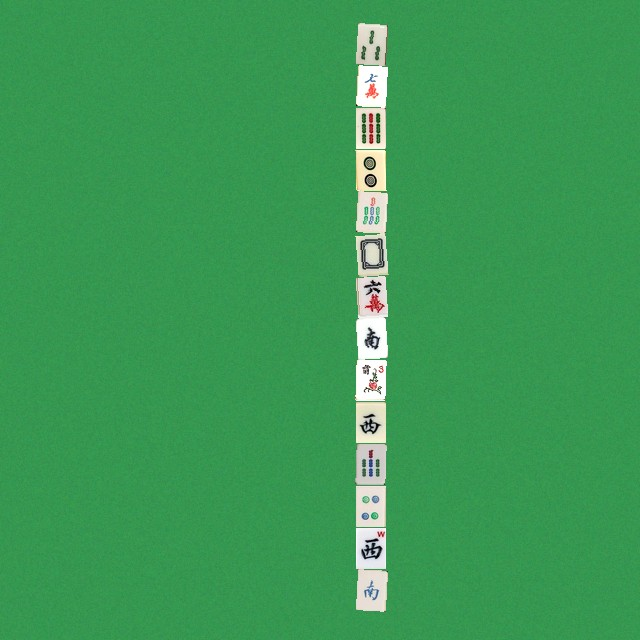tile: (355, 23, 385, 64), (355, 65, 385, 106), (355, 107, 385, 148), (355, 149, 385, 190), (355, 191, 385, 232), (355, 233, 385, 274), (355, 275, 385, 316), (355, 317, 385, 358), (355, 359, 385, 400), (355, 401, 385, 442), (355, 443, 385, 484), (355, 485, 385, 526), (355, 527, 385, 568), (355, 569, 385, 610)
